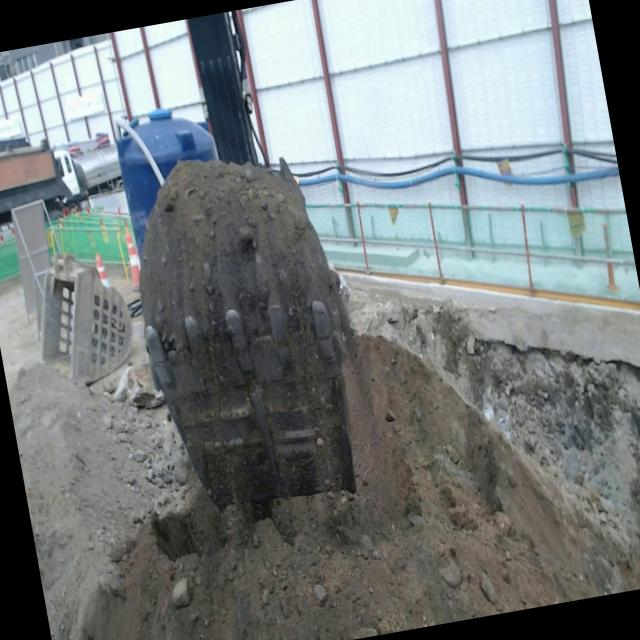red-sand: (88, 334, 640, 640), (140, 160, 349, 352)
white-sand: (8, 363, 188, 640)
